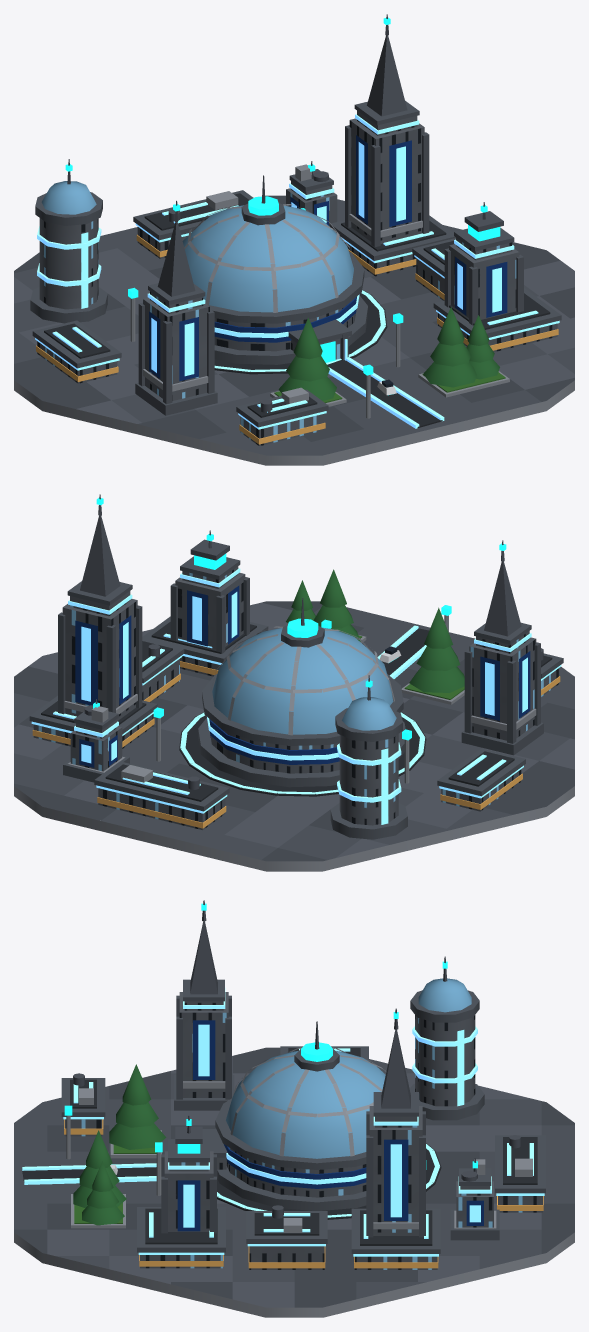
File: district_scifi_b_blue.glb
3 views of the same model, one above another, from view 1: azimuth 30°, elevation 25°; view 2: azimuth 150°, elevation 25°; view 3: azimuth 270°, elevation 25° (orthographic).
Parts seen in each view (by area): view 1: district_scifi_b_blue; view 2: district_scifi_b_blue; view 3: district_scifi_b_blue.
Part boxes in pixels (left/top/right/bottom): district_scifi_b_blue: left=14, top=14, right=574, bottom=465; district_scifi_b_blue: left=14, top=494, right=574, bottom=871; district_scifi_b_blue: left=14, top=900, right=574, bottom=1317.
Bounding box in the file's own units: 1.63 × 0.73 × 1.49.
3 materials, 1 textured.
